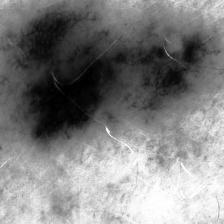Benign Marking or Mole: (20, 4, 196, 136)
